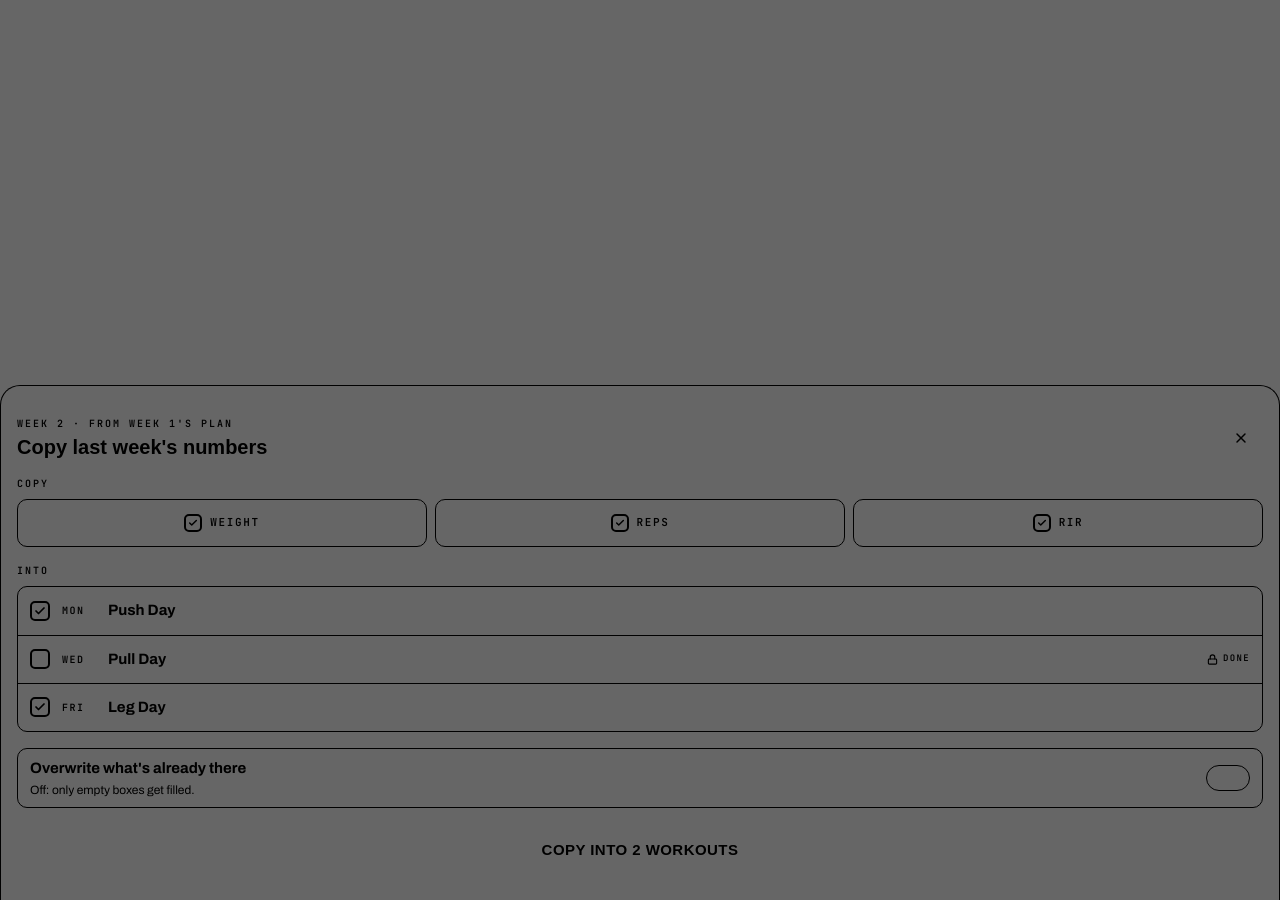
the button › no field ticked: PICK WHAT TO COPY, disabled, no pointer
Click the checkbox labelled "WEIGHT" at [222, 523], box x1=17 y1=499 x2=427 y2=547
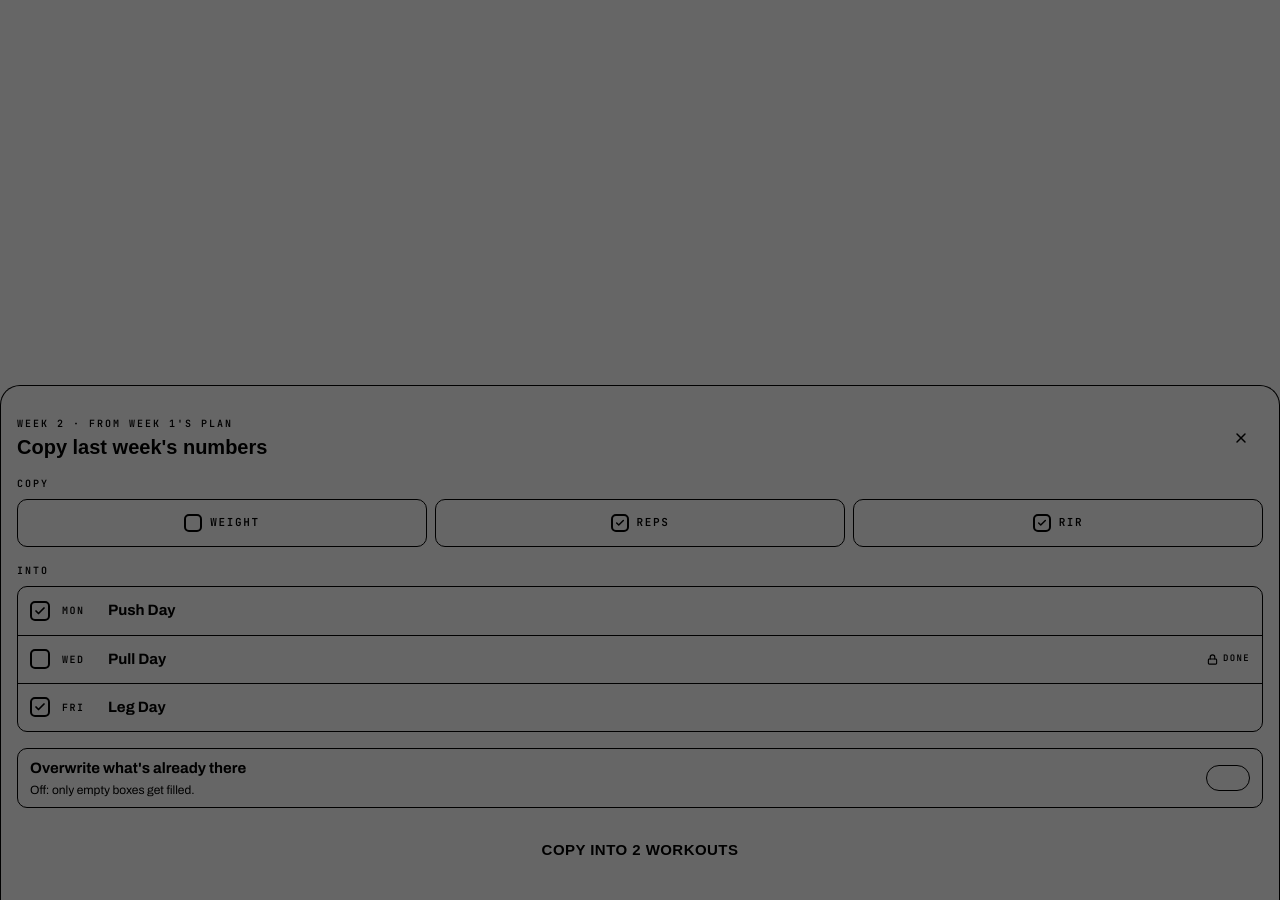
Click the checkbox labelled "REPS" at [640, 523], box x1=435 y1=499 x2=845 y2=547
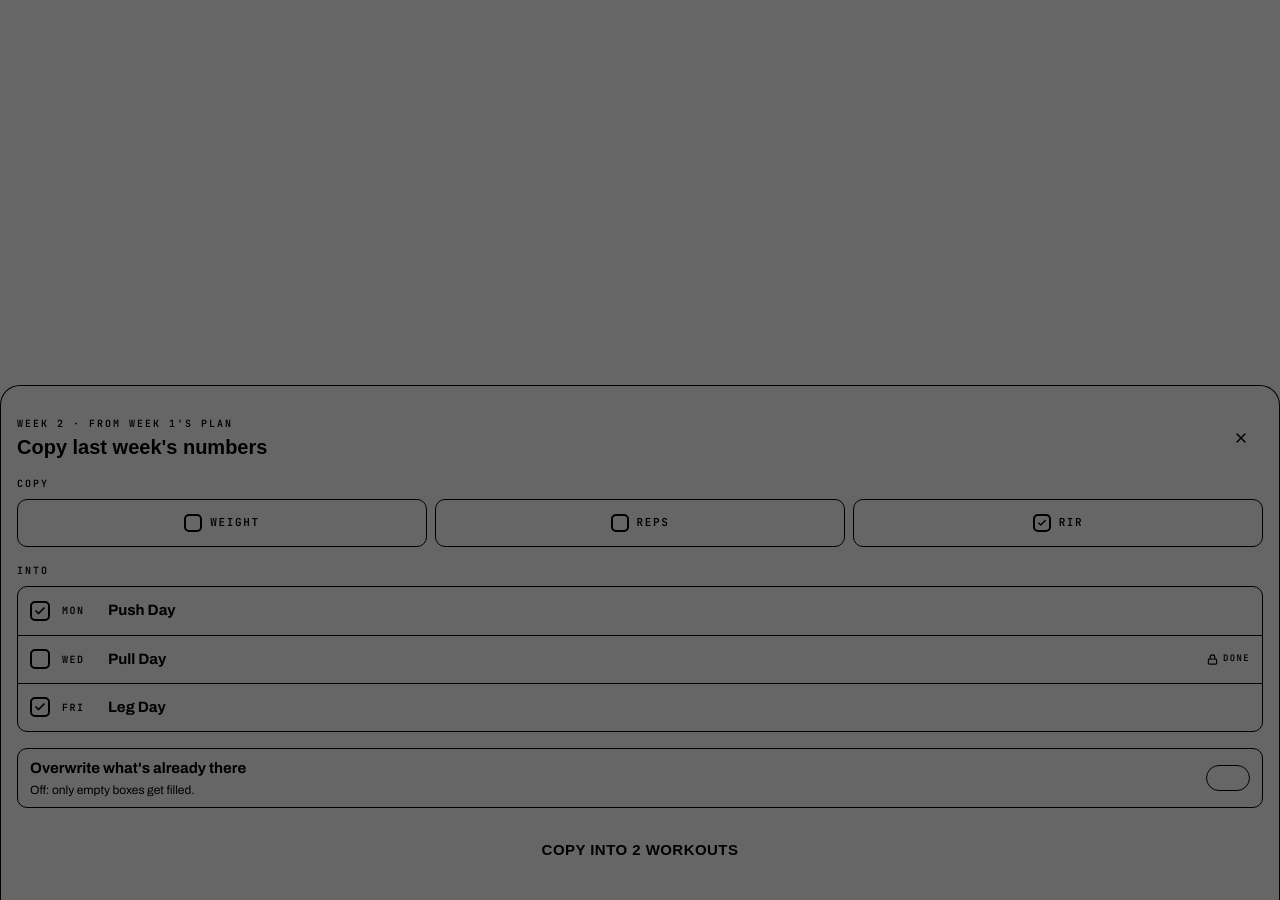
Click the checkbox labelled "RIR" at [1058, 523], box x1=853 y1=499 x2=1263 y2=547
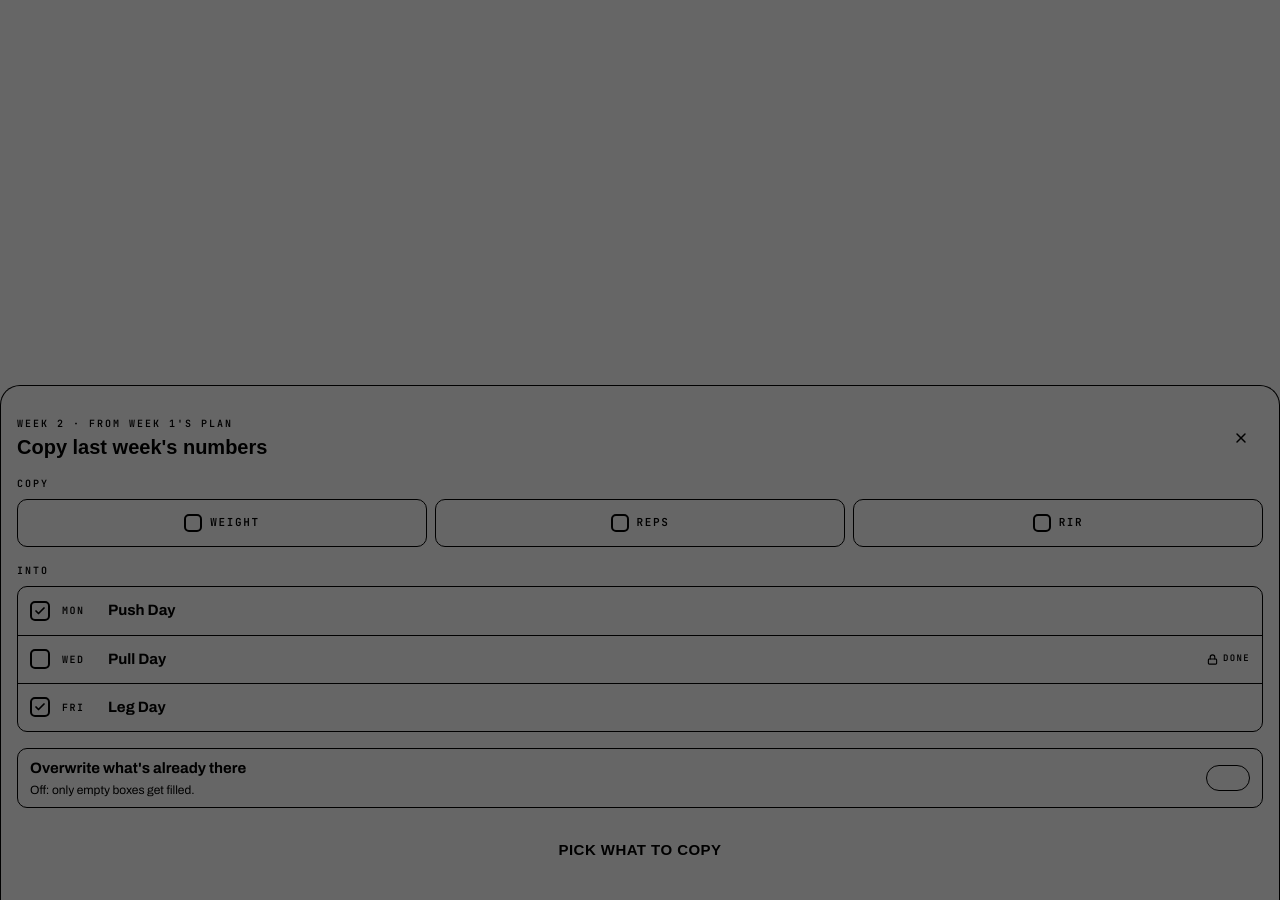
expect the button "PICK WHAT TO COPY" is shown: met, box x1=17 y1=824 x2=1263 y2=876
expect the button "PICK WHAT TO COPY" is disabled: met, box x1=17 y1=824 x2=1263 y2=876
